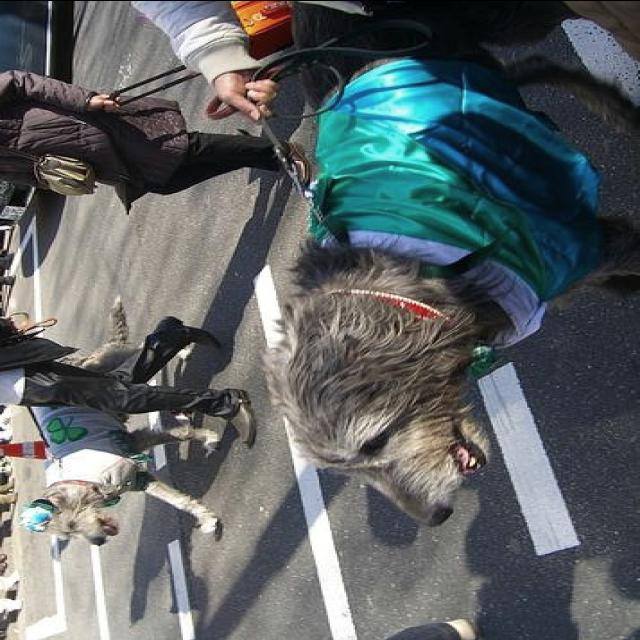irish_wolfhound: (256, 0, 638, 525), (32, 296, 222, 556)
